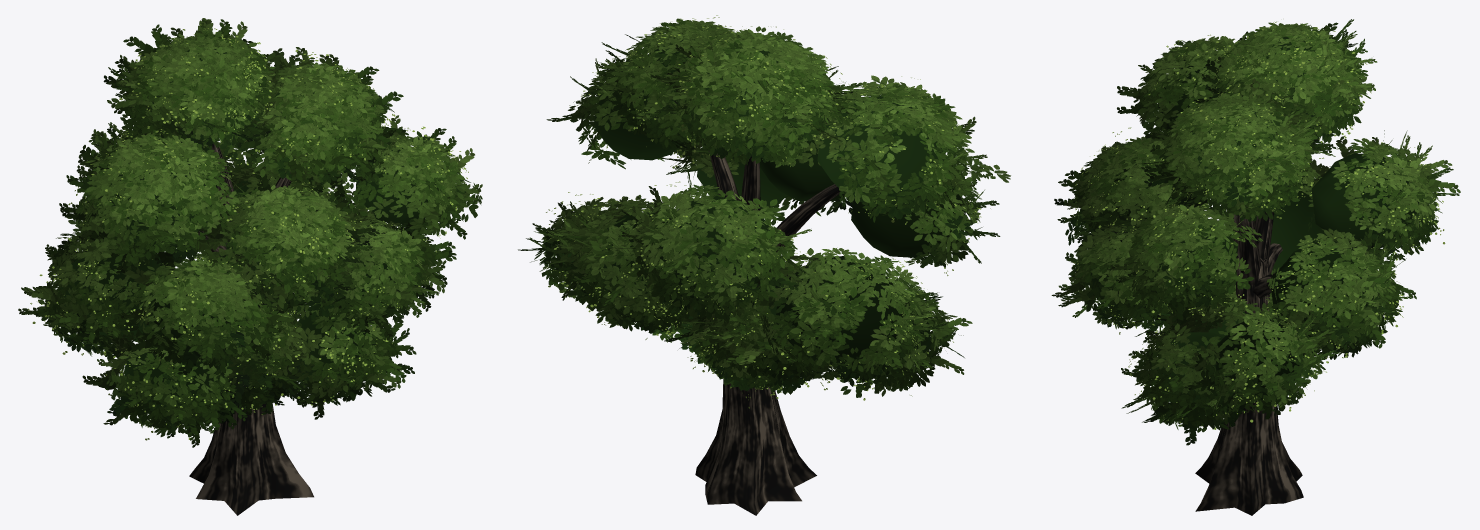
Rendered from CreTree07.glb.
The picture shows the model from 3 angles, left to right: view 1: azimuth 30°, elevation 25°; view 2: azimuth 150°, elevation 25°; view 3: azimuth 270°, elevation 25°; orthographic projection. The views are drawn at different scales.
Parts seen in each view (by area): view 1: CreTree07_leaves; view 2: CreTree07_leaves; view 3: CreTree07_leaves.
Part boxes in pixels (x1=…): CreTree07_leaves: x1=18, y1=18, x2=482, y2=515; CreTree07_leaves: x1=518, y1=15, x2=1010, y2=515; CreTree07_leaves: x1=1051, y1=19, x2=1460, y2=515.
Bounding box in the file's own units: 10.09 × 10.26 × 8.58.
Materials: 3 (2 with a texture image).
